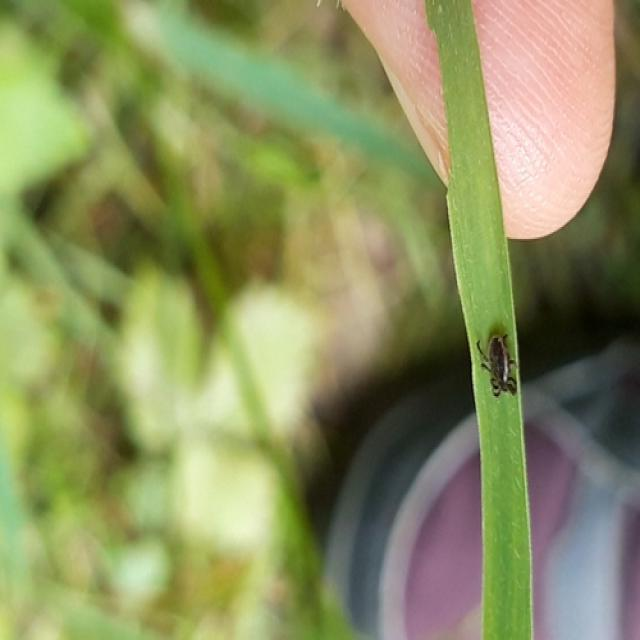Ixodes Ricinus-M: (476, 333, 516, 398)
